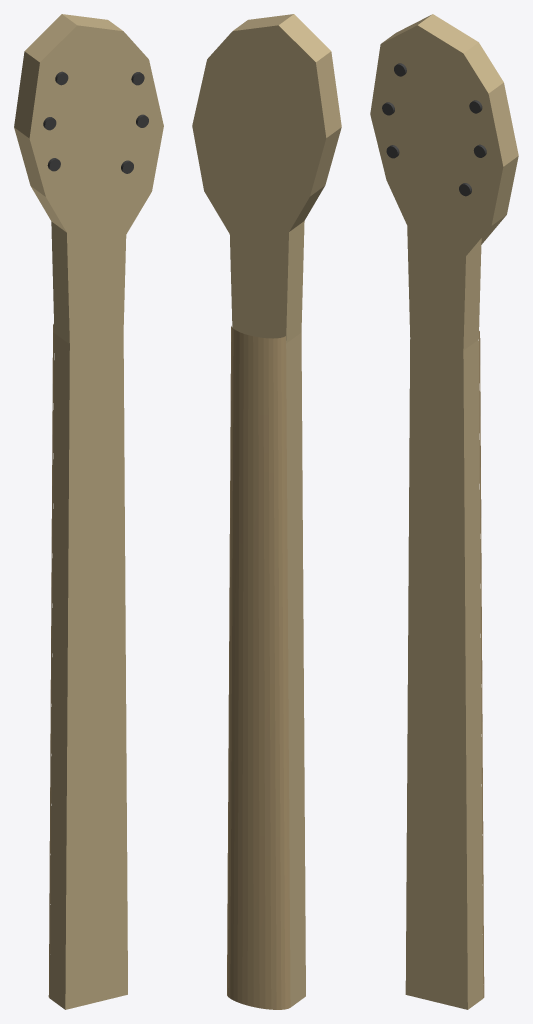
The model's file is fender_style_neck_no_fretboard.glb.
3 renders of one model, left to right at view 1: azimuth 30°, elevation 25°; view 2: azimuth 150°, elevation 25°; view 3: azimuth 330°, elevation 25°, orthographic.
Visible parts, largest first — view 1: NECK_BLANK_TOP_NO_FRETBOARD, ROUNDED_BACK_PROFILE; view 2: NECK_BLANK_TOP_NO_FRETBOARD, ROUNDED_BACK_PROFILE; view 3: NECK_BLANK_TOP_NO_FRETBOARD, ROUNDED_BACK_PROFILE.
Part boxes in pixels (x1,y1,x2,y2): NECK_BLANK_TOP_NO_FRETBOARD: (14, 14, 163, 1009); ROUNDED_BACK_PROFILE: (48, 324, 54, 998); NECK_BLANK_TOP_NO_FRETBOARD: (192, 14, 341, 1007); ROUNDED_BACK_PROFILE: (227, 326, 290, 1009); NECK_BLANK_TOP_NO_FRETBOARD: (370, 14, 518, 1009); ROUNDED_BACK_PROFILE: (479, 331, 484, 997).
Size of the model in its own units: 0.09 by 0.628 by 0.0301.
